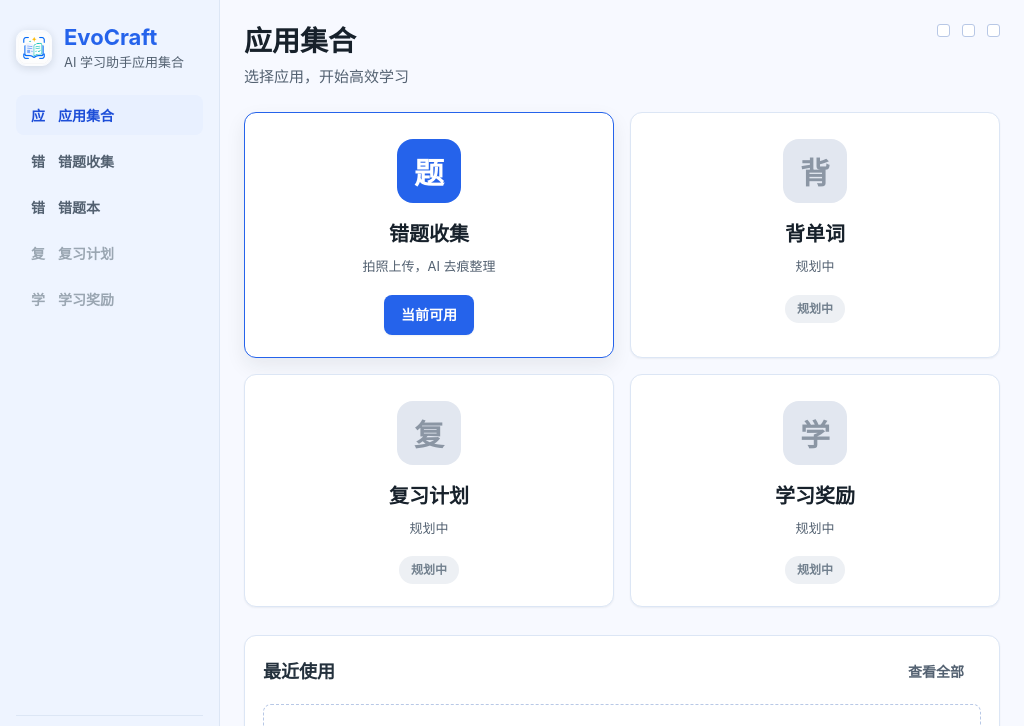
Test: App › blocks desktop real AI region detection until external authorization is acknowledged
Click the button "错 错题收集" at (110, 161), box [16,141,203,181]
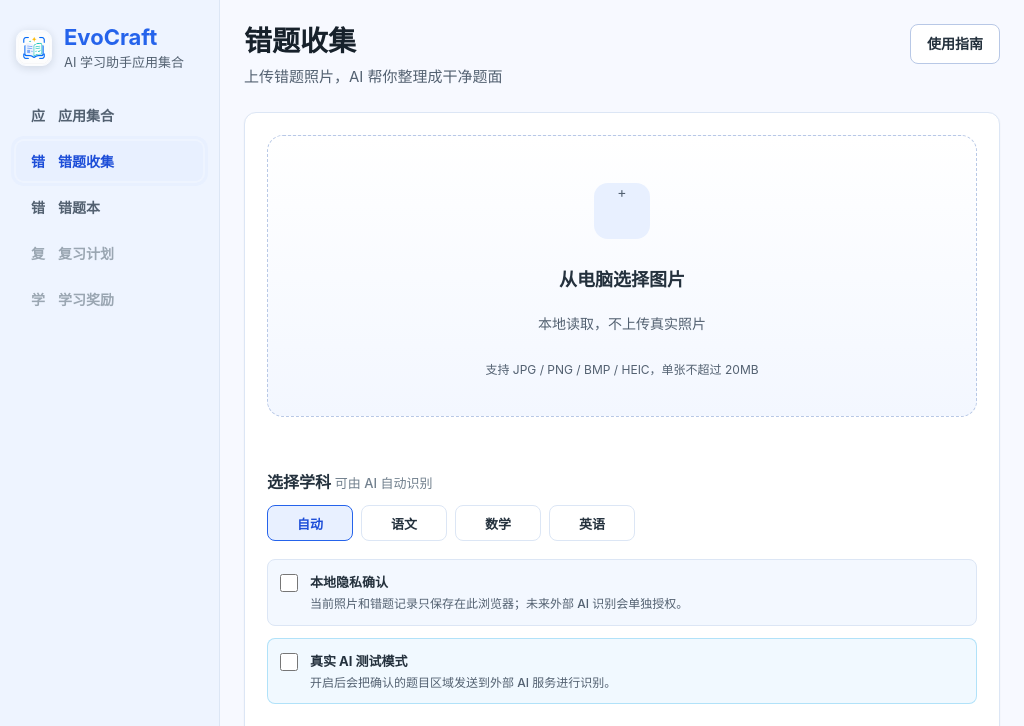
Check: the text "真实 AI 测试模式" is shown, box [310,653,408,669]
Click the button "从电脑选择图片" at (310, 276), box [267,135,977,417]
(page scrolled)
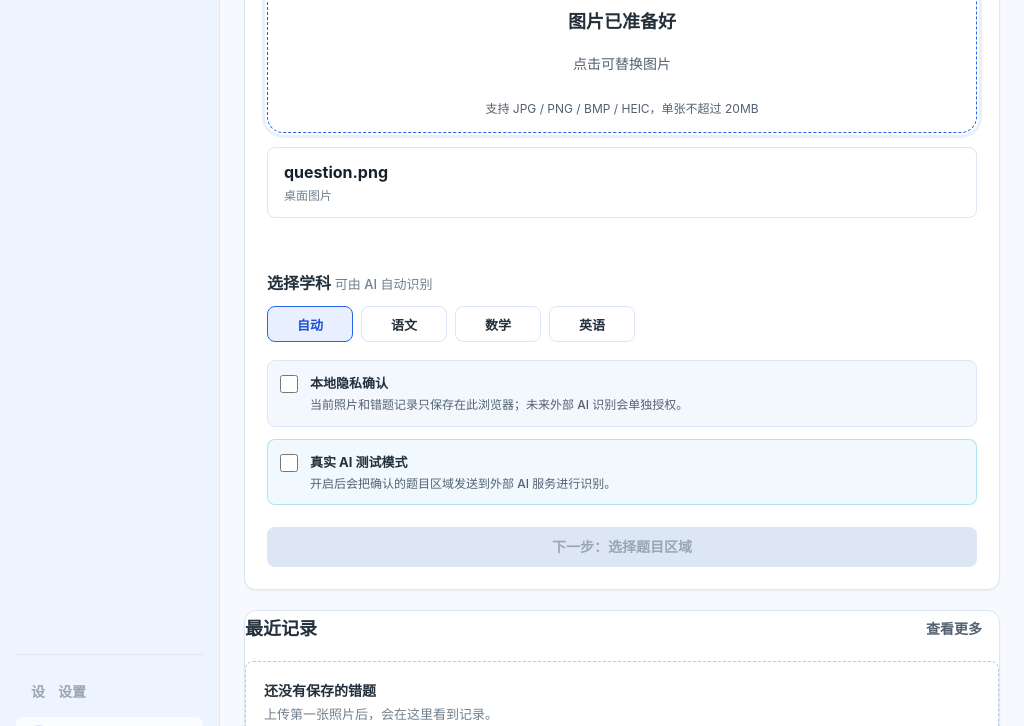
Check: the text "question.png" is shown, box [284,162,388,182]
Click the checkbox labelled "本地隐私确认 当前照片和错题记录只保存在此浏览器；未来外部 AI 识别会单独授权。" at (289, 384), box [280,375,298,393]
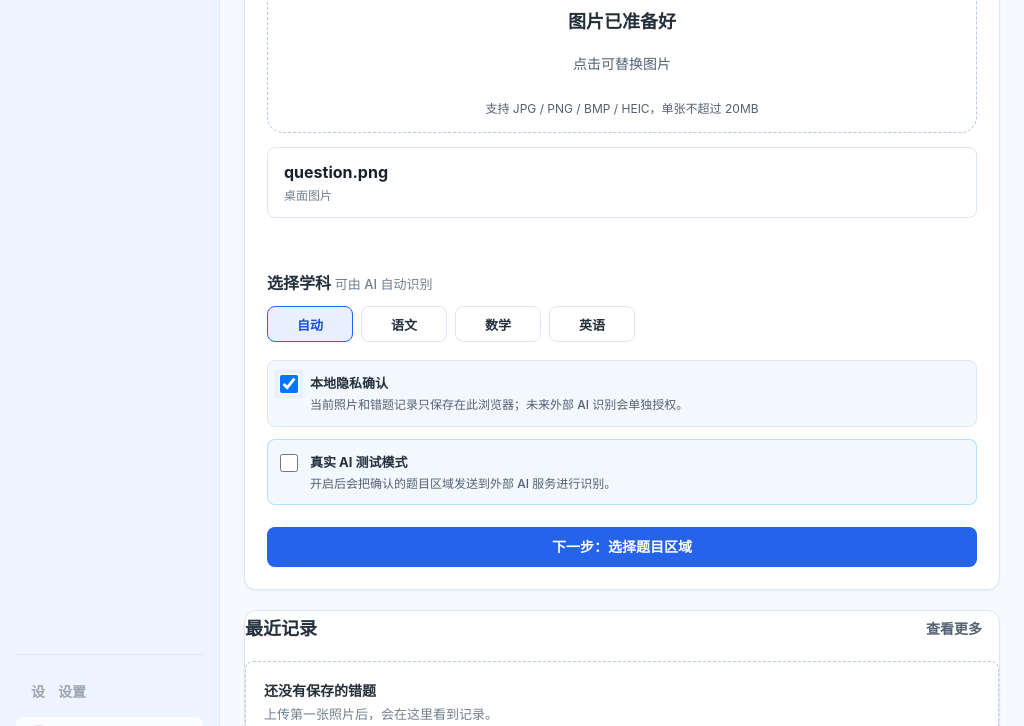
Click the button "下一步：选择题目区域" at (622, 547), box [267,527,977,567]
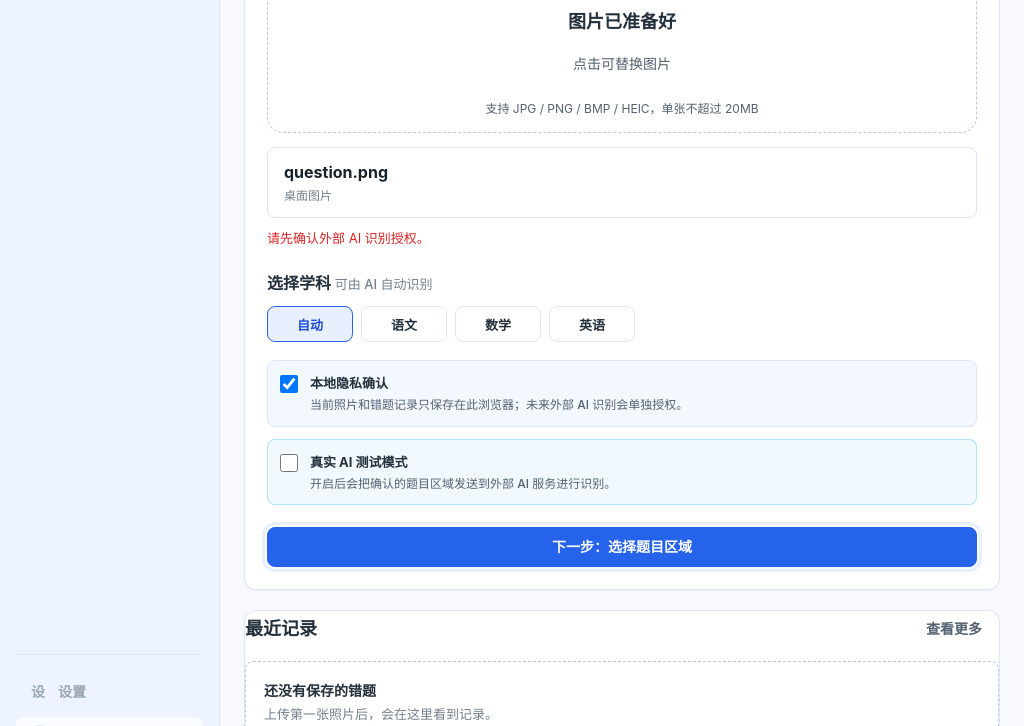
Check: the text "question.png" is shown, box [284,162,388,182]
Check: the message reads "请先确认外部 AI 识别授权。", box [267,230,430,246]
